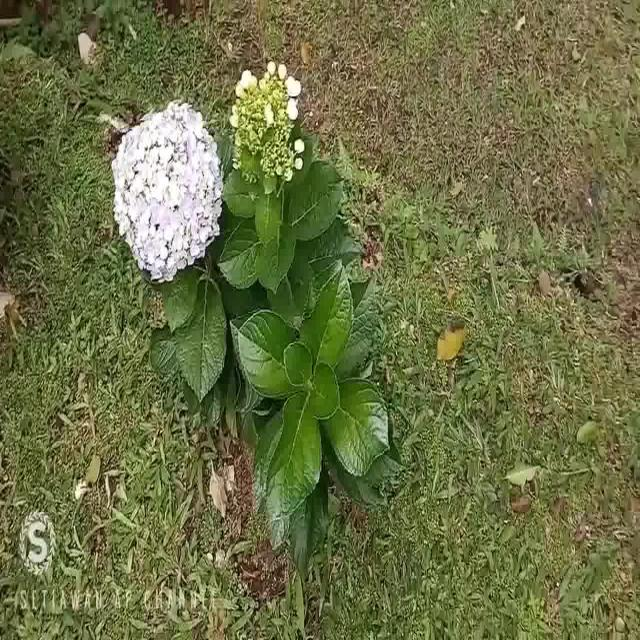Flower: (104, 98, 228, 281)
